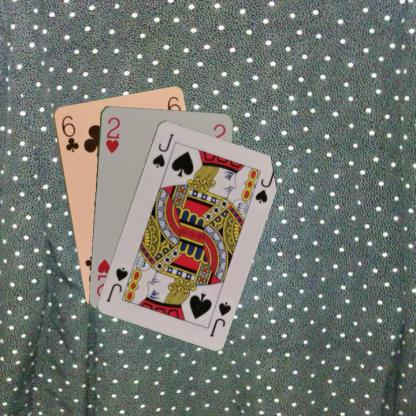2h: (103, 114, 121, 154)
6c: (58, 112, 80, 154)
Js: (206, 298, 232, 338), (149, 131, 175, 169)
